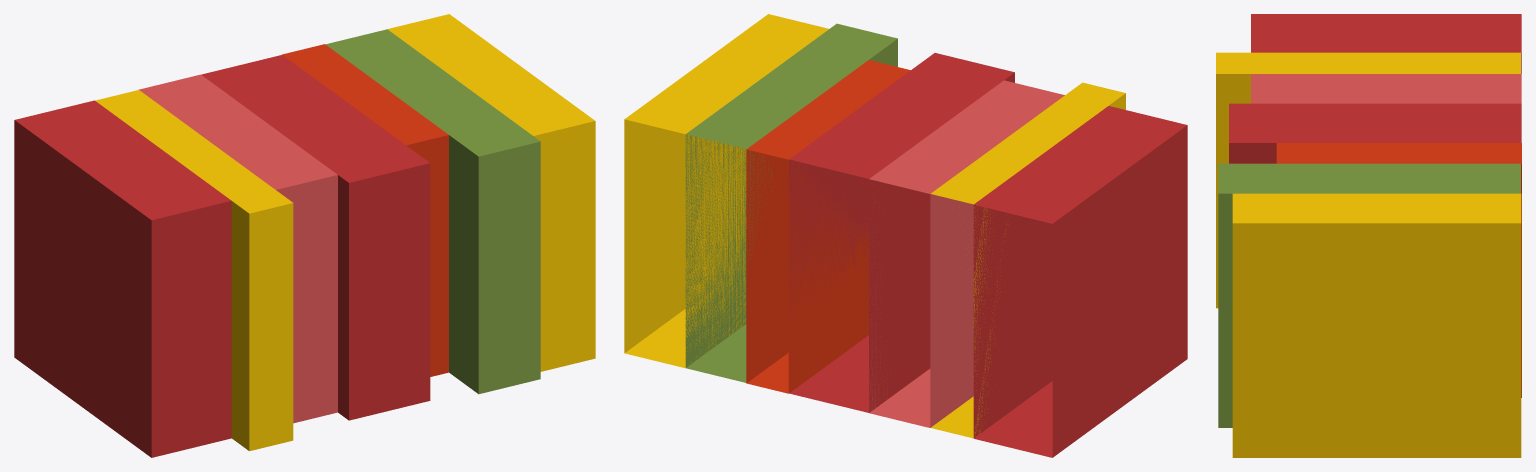
File: RG_Dungeon_Books-03.fbx
3 views of the same model, side by side, from view 1: azimuth 30°, elevation 25°; view 2: azimuth 150°, elevation 25°; view 3: azimuth 270°, elevation 25° (orthographic).
Parts seen in each view (by area): view 1: RG_Dungeon_Books-03; view 2: RG_Dungeon_Books-03; view 3: RG_Dungeon_Books-03.
Part boxes in pixels (left/top/right/bottom): RG_Dungeon_Books-03: left=14, top=14, right=595, bottom=457; RG_Dungeon_Books-03: left=624, top=14, right=1187, bottom=457; RG_Dungeon_Books-03: left=1216, top=14, right=1521, bottom=457.
Bounding box in the file's own units: 3.12 × 1.63 × 1.92.
